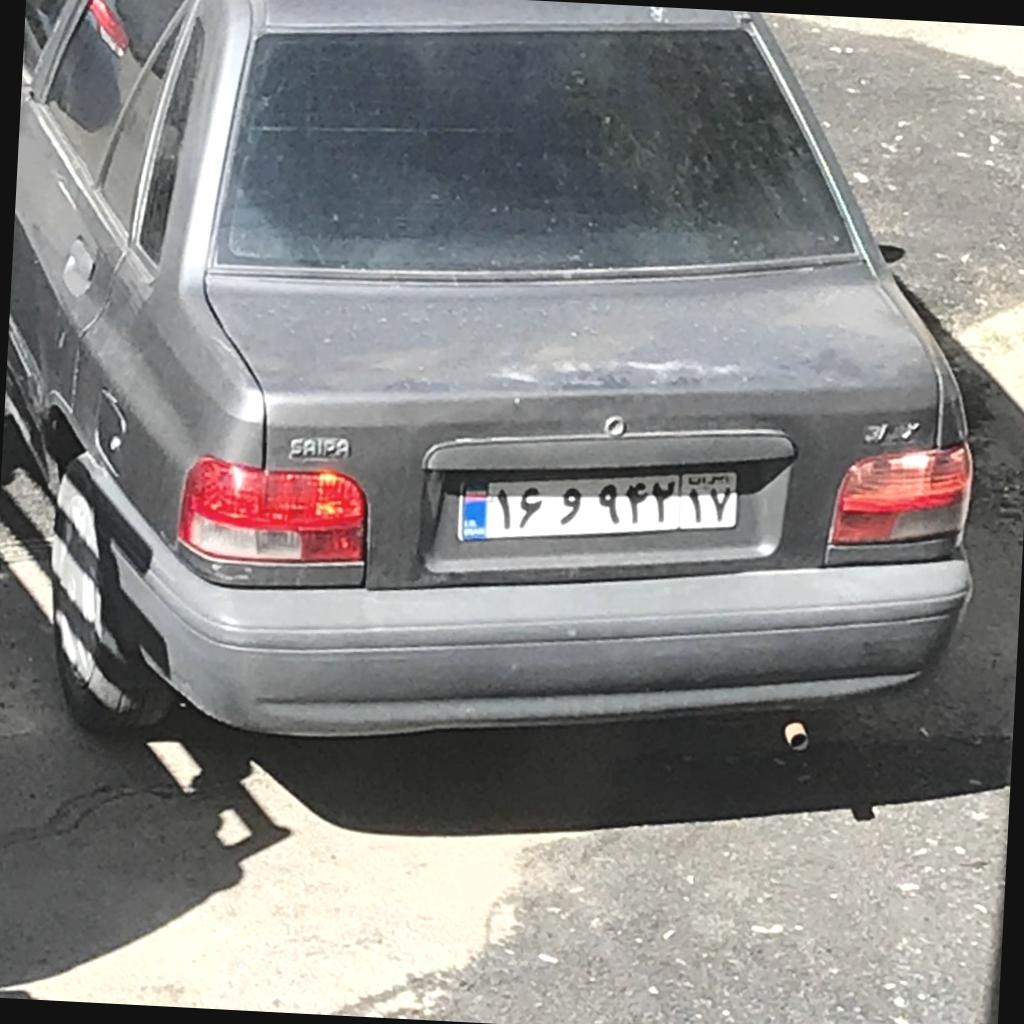Plates: (462, 473, 737, 541)
